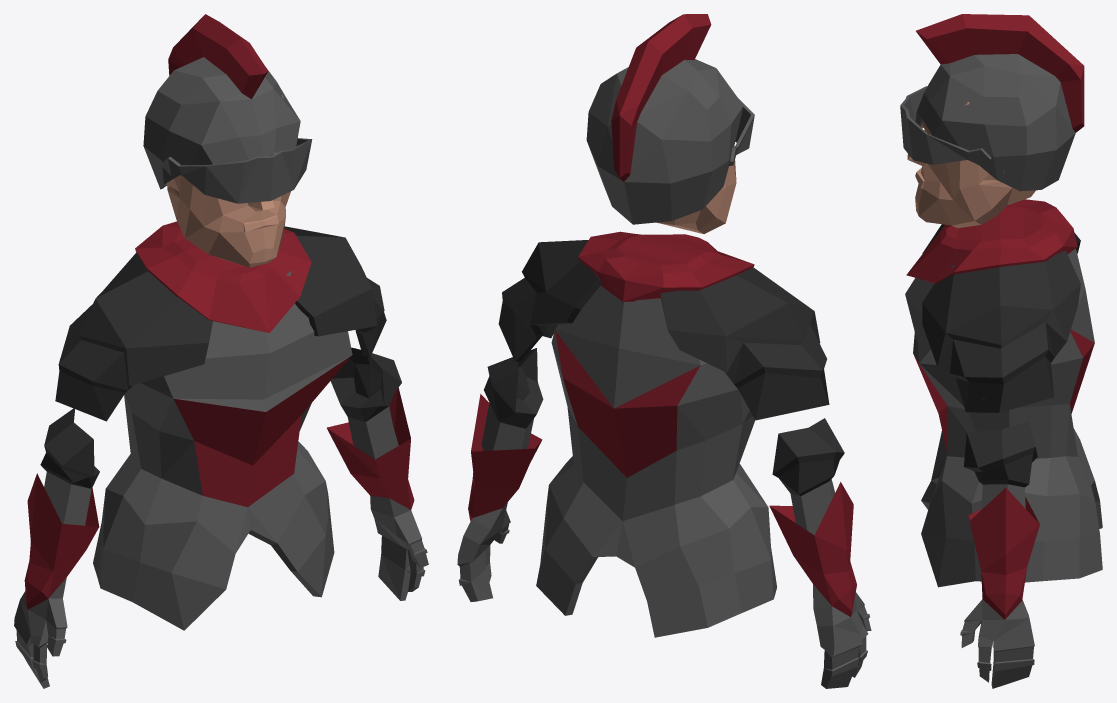
Rendered from ChevalierRouge.FBX.
3 views of the same model, side by side, from view 1: azimuth 30°, elevation 25°; view 2: azimuth 150°, elevation 25°; view 3: azimuth 270°, elevation 25° (orthographic). The views are drawn at different scales.
Parts seen in each view (by area): view 1: player_armor, player_helmet_v01, player_arms_left, player_arm_right, player_head, player_helmetVisor_v01; view 2: player_armor, player_helmet_v01, player_arm_right, player_arms_left, player_head, player_helmetVisor_v01; view 3: player_armor, player_helmet_v01, player_arms_left, player_head, player_helmetVisor_v01.
Part boxes in pixels (bbox=[...]): player_armor: bbox=[55, 221, 386, 630]; player_helmet_v01: bbox=[143, 14, 300, 189]; player_arms_left: bbox=[327, 347, 428, 600]; player_arm_right: bbox=[14, 408, 99, 688]; player_head: bbox=[166, 95, 290, 267]; player_helmetVisor_v01: bbox=[160, 138, 312, 203]; player_armor: bbox=[498, 231, 829, 637]; player_helmet_v01: bbox=[586, 14, 743, 224]; player_arm_right: bbox=[769, 418, 871, 688]; player_arms_left: bbox=[457, 348, 543, 601]; player_head: bbox=[657, 160, 736, 233]; player_helmetVisor_v01: bbox=[728, 98, 754, 165]; player_armor: bbox=[905, 199, 1102, 587]; player_helmet_v01: bbox=[915, 14, 1084, 191]; player_arms_left: bbox=[960, 421, 1039, 688]; player_head: bbox=[907, 102, 1035, 228]; player_helmetVisor_v01: bbox=[900, 86, 991, 165].
Bounding box in the file's own units: 14.65 × 21.99 × 6.84.
